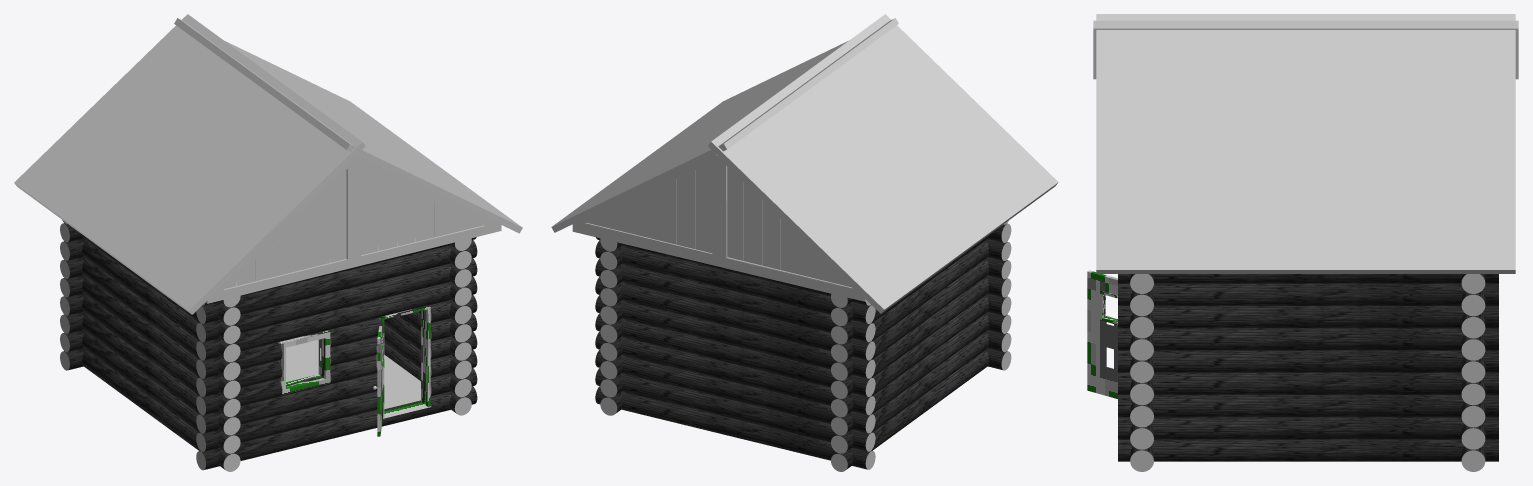
The model's file is hut.obj.
3 renders of one model, left to right at view 1: azimuth 30°, elevation 25°; view 2: azimuth 150°, elevation 25°; view 3: azimuth 270°, elevation 25°, orthographic. The views are drawn at different scales.
Parts seen in each view (by area): view 1: wood, Plane.001, roof, Plane, inner_wood, floor+cieling, door, window; view 2: wood, Plane.001, roof, Plane, inner_wood; view 3: Plane, wood, inner_wood, Plane.001, door.
Part boxes in pixels (x1,y1,x2,y2): wood: (63,223,477,469); Plane.001: (14,14,365,314); roof: (205,155,501,303); Plane: (174,18,522,233); inner_wood: (60,220,471,471); floor+cieling: (286,334,420,408); door: (376,305,430,436); window: (278,330,330,394); wood: (595,223,1007,469); Plane.001: (708,14,1058,313); roof: (572,154,866,301); Plane: (551,18,898,232); inner_wood: (600,220,1011,471); Plane: (1096,14,1515,273); wood: (1118,274,1498,461); inner_wood: (1130,274,1485,471); Plane.001: (1093,20,1518,79); door: (1087,270,1117,398).
Size of the model in its own units: 12.8 by 11.23 by 11.73.
